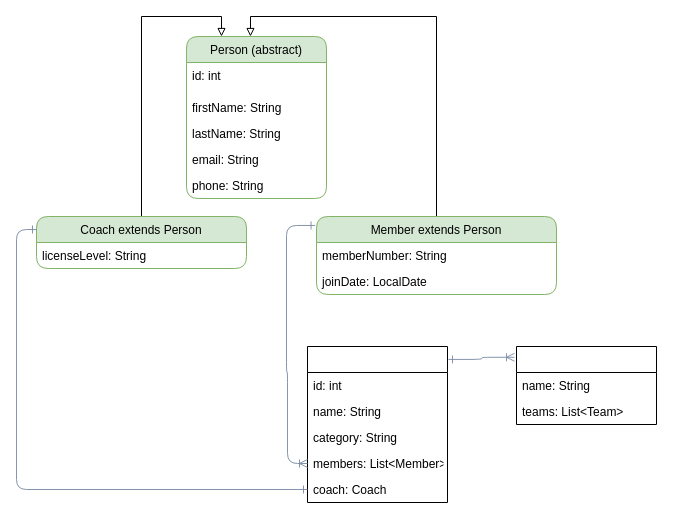
Image size: 673x519. Some labels were removed from this diagram. Here are the shapes that lost their labels. From the top down, the box of each, then its label:
(516, 346, 656, 424): Club
(306, 346, 448, 502): Team
